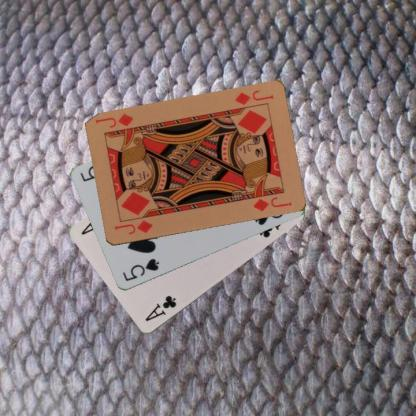5s: (120, 256, 160, 283)
Ac: (142, 293, 178, 323)
Jd: (232, 88, 274, 111), (111, 218, 155, 236)
